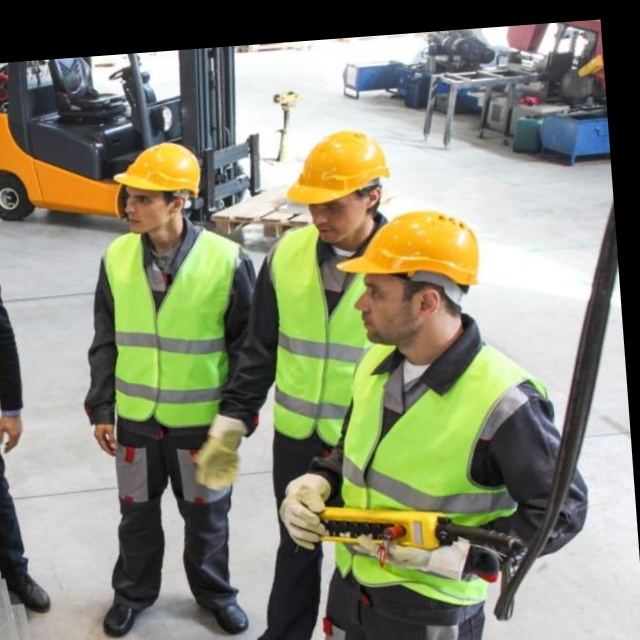Con_Chaleco: (317, 335, 561, 608), (90, 217, 257, 437), (260, 216, 384, 450)
